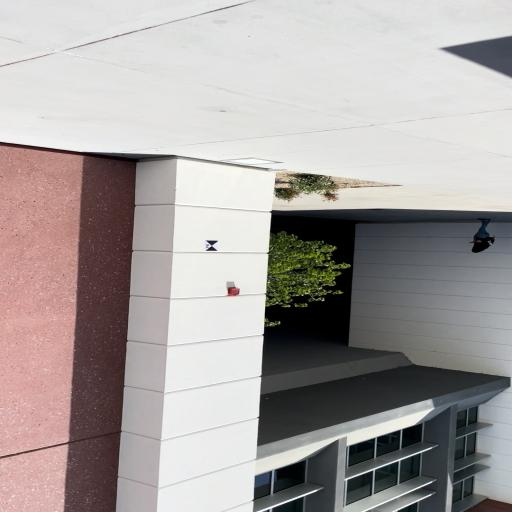target2: (204, 240, 219, 251)
